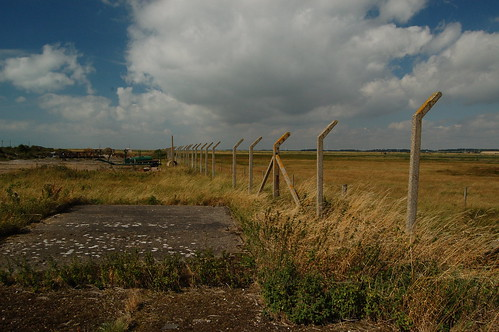grass: (255, 148, 499, 332), (12, 165, 244, 206)
sky: (6, 1, 494, 148)
